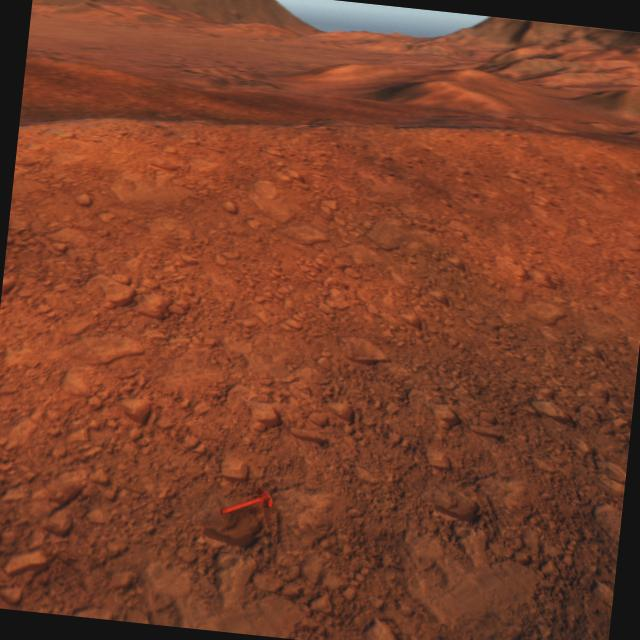newhammer: (220, 484, 274, 520)
